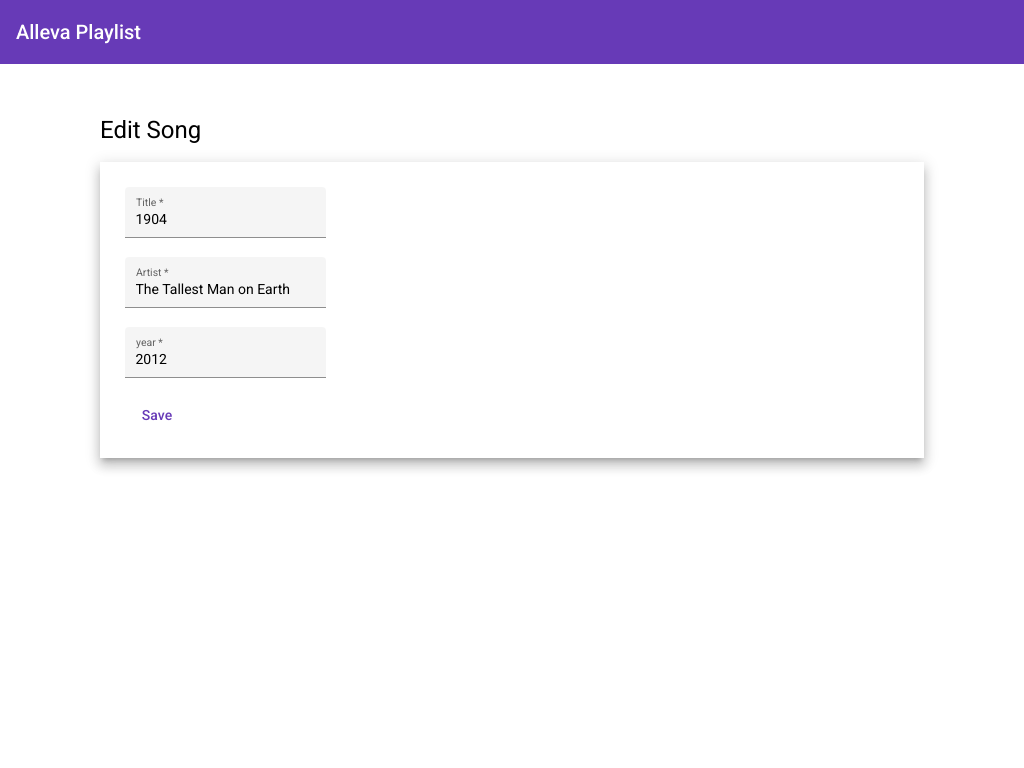
Test: empty spec › Test > Songs Edit Form edit
The width and height of the screenshot is (1024, 768).
Expected: the button with id "song-form-save-button" is shown, [125,397,189,433]
Expected: the field with id "song-form-year-field" is shown, [136,352,316,368]
# Test Form fields
Clear the field with id "song-form-title-field": (226, 220) [136,212,316,228]
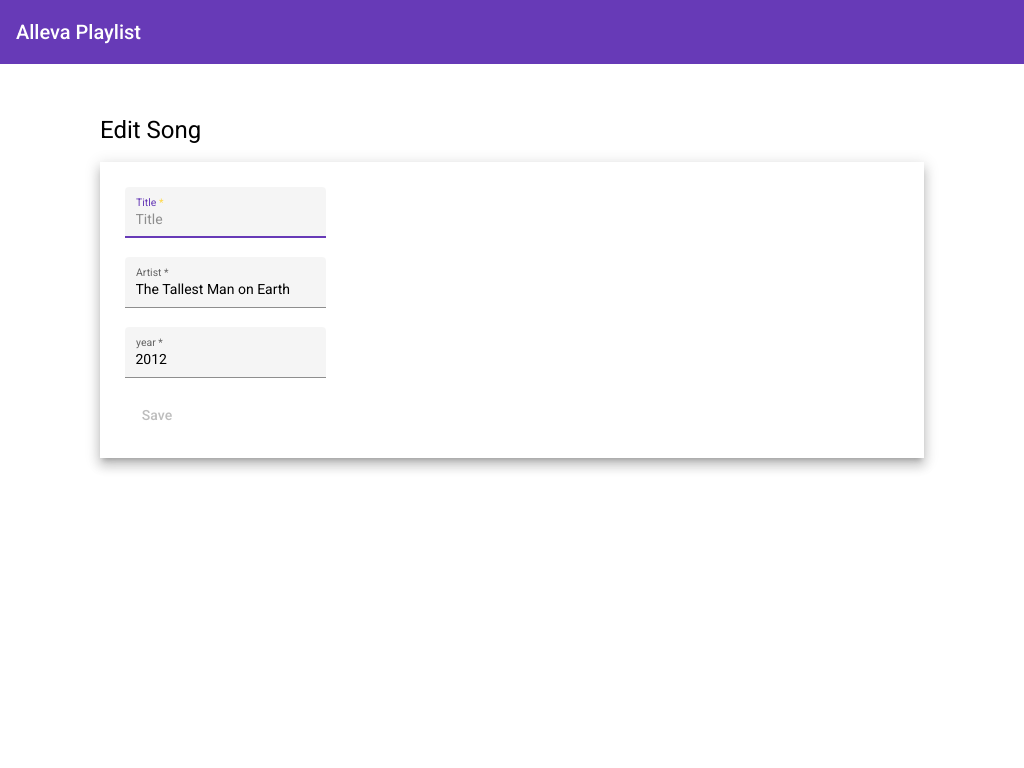
Result: the button with id "song-form-save-button" is disabled at [125,397,189,433]
Click the element showing "Alleva Playlist Edit Song Title * Artist * year * Save": (0, 0) [0,0,1023,767]
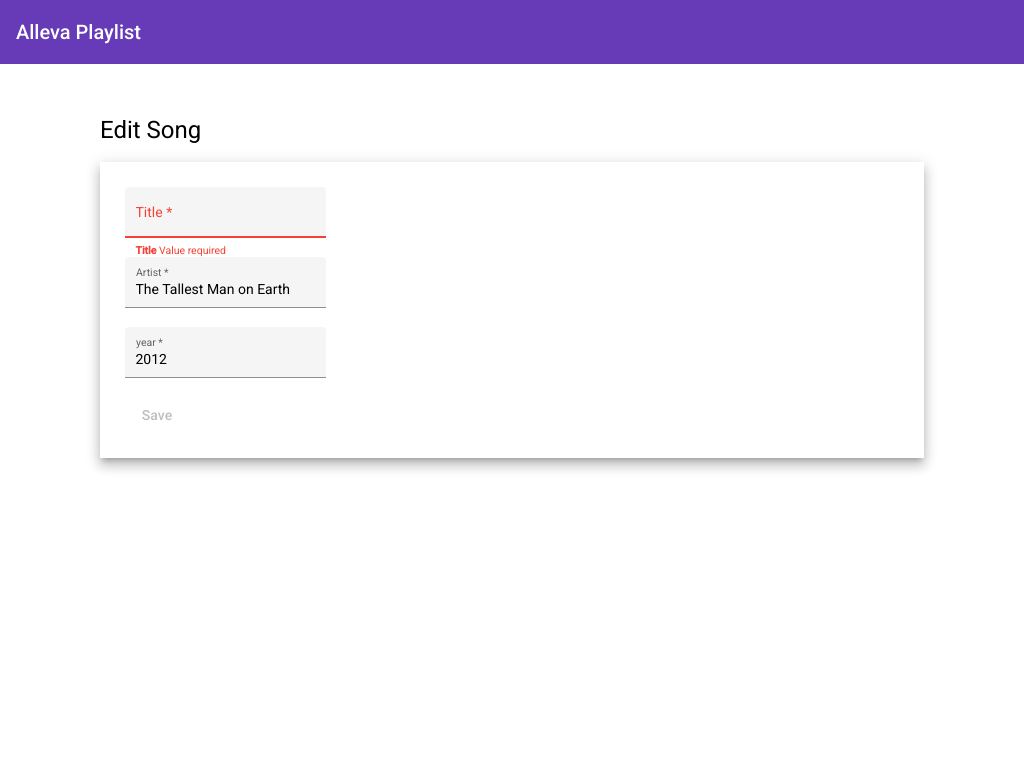
Result: the text "Title" is shown at [136,245,156,257]
In the field with id "song-form-title-field": (226, 220) [136,212,316,228], type "Geeth"
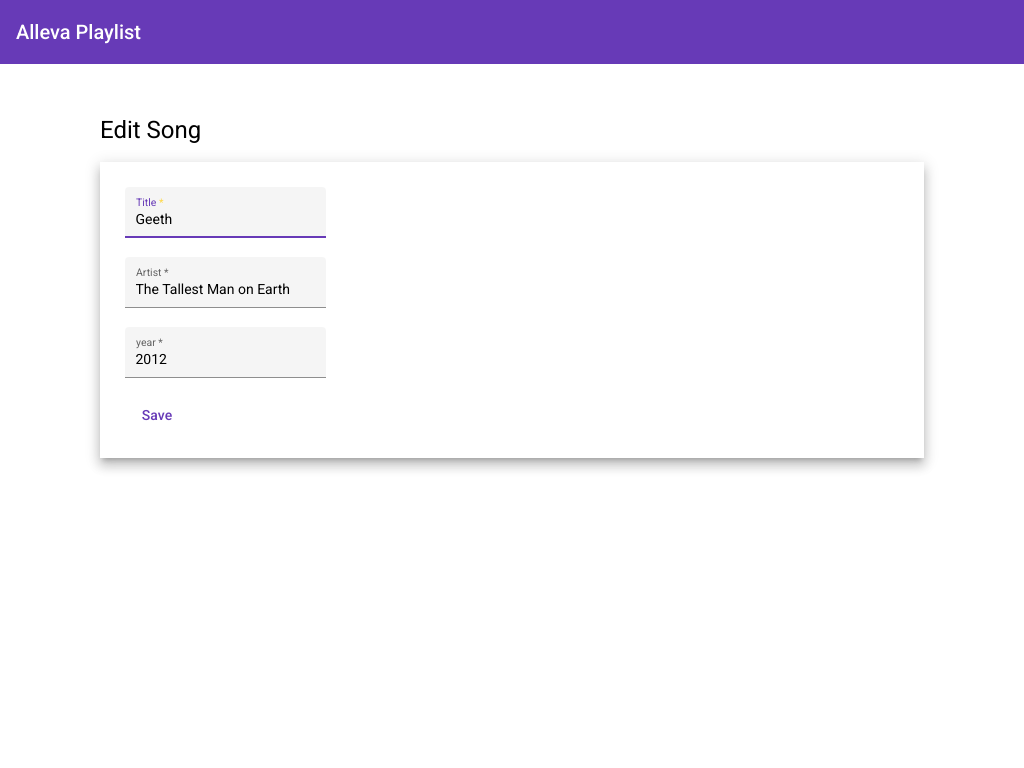
Expected: the element with id "song-form-save-button" is enabled
Click the button with id "song-form-save-button": (157, 415) [125,397,189,433]
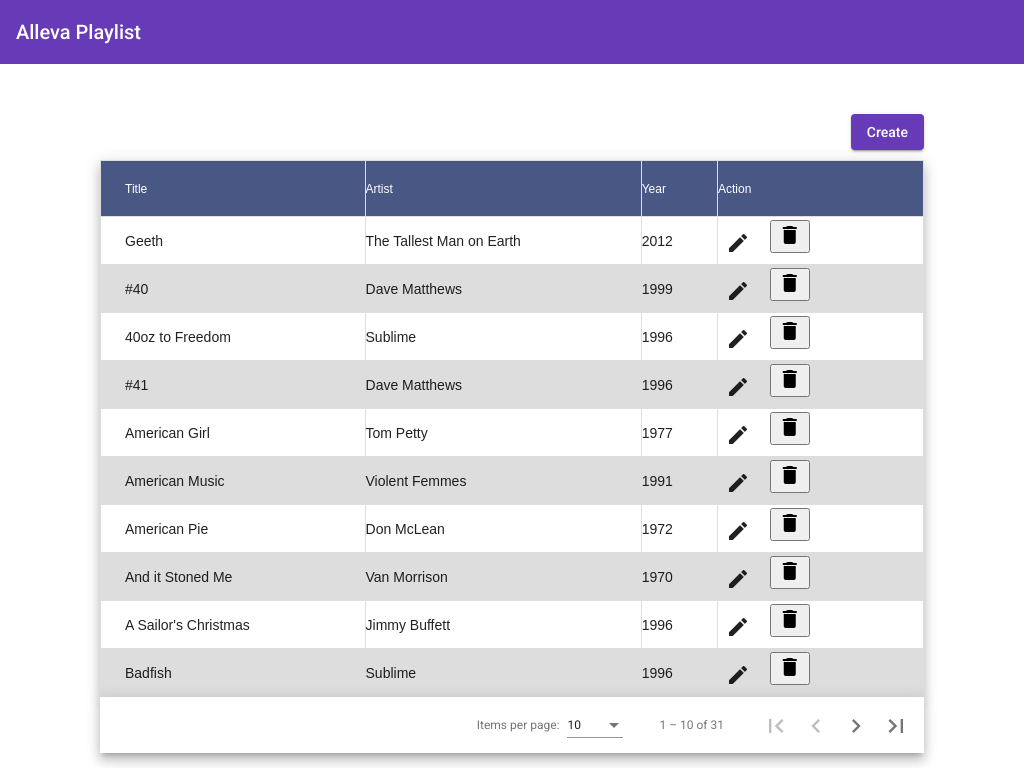
Result: the cell with id "song-id-1-title" reads "Geeth" at [101,217,366,265]
